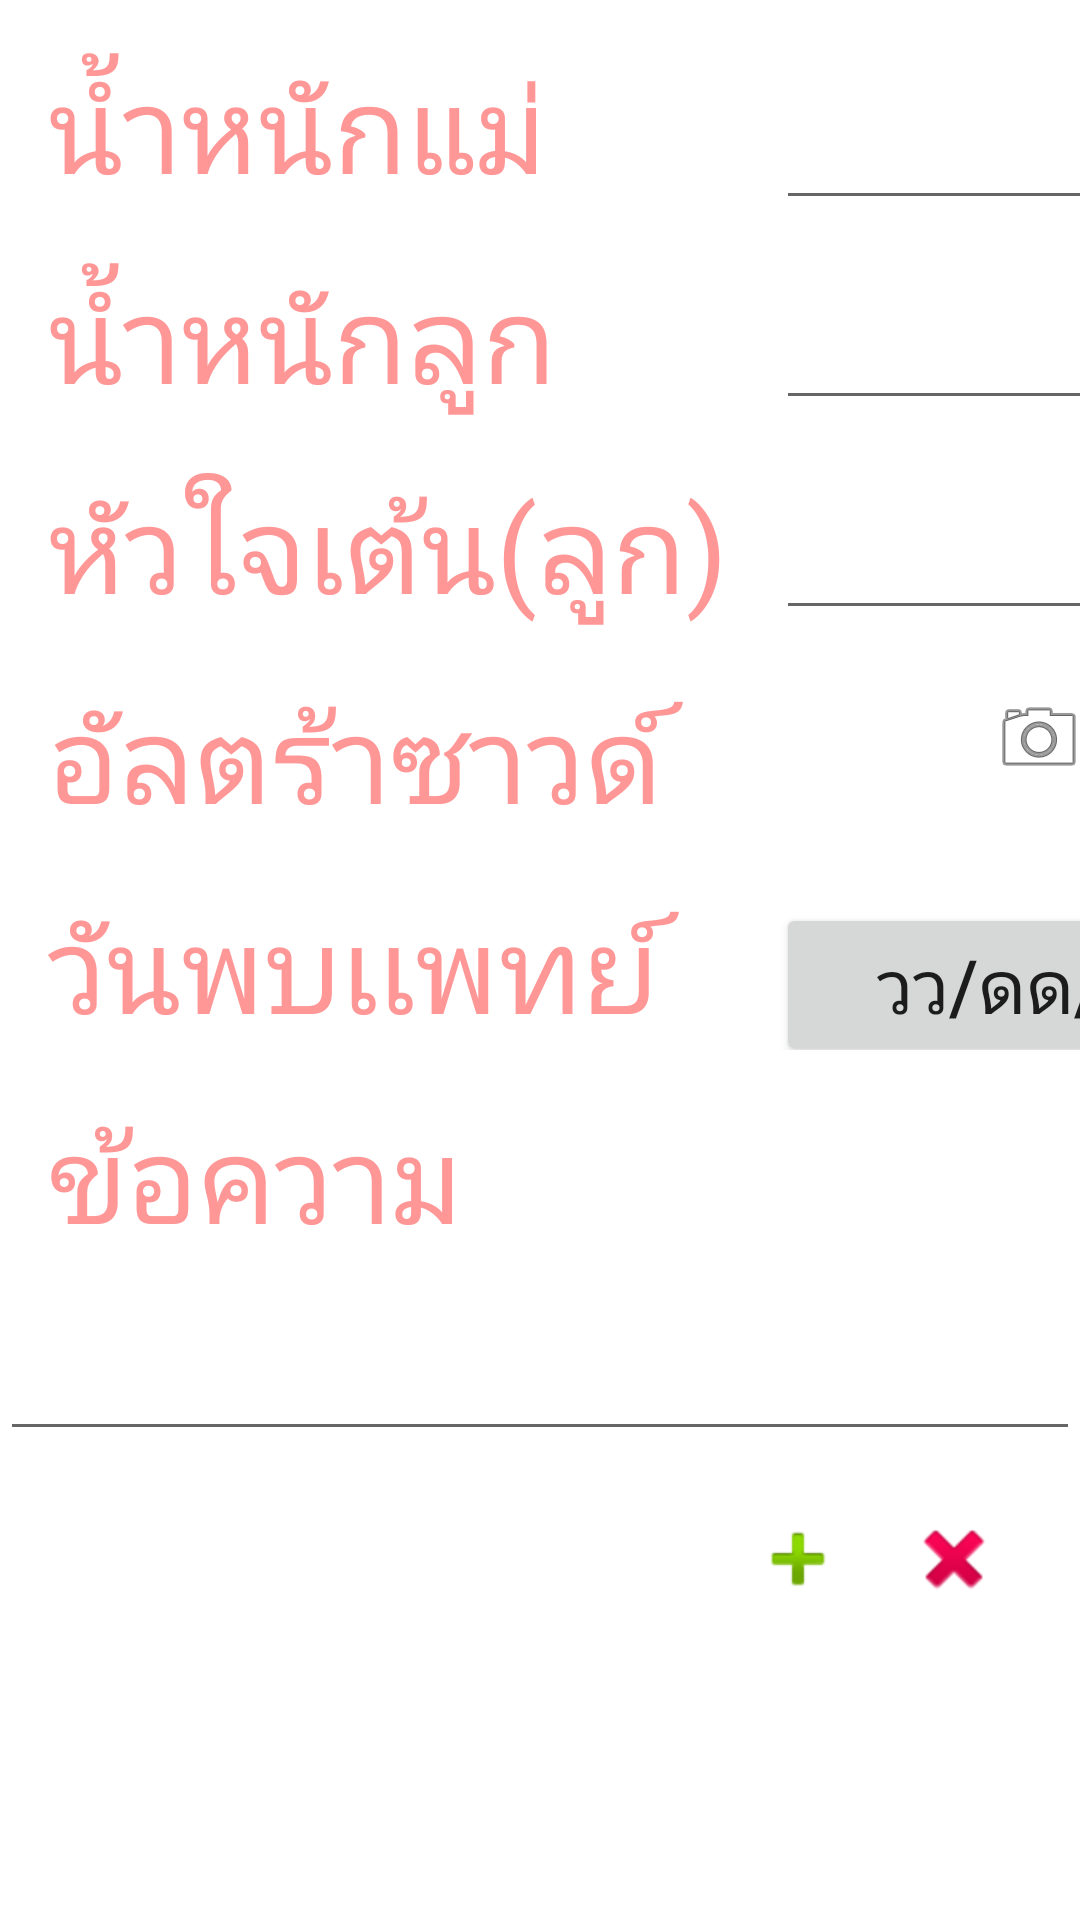

Where icons sit on this 1080×1920 app screen, as (x1, y1, x2, y2):
add: (771, 1532, 825, 1586)
delete: (923, 1530, 985, 1589)
